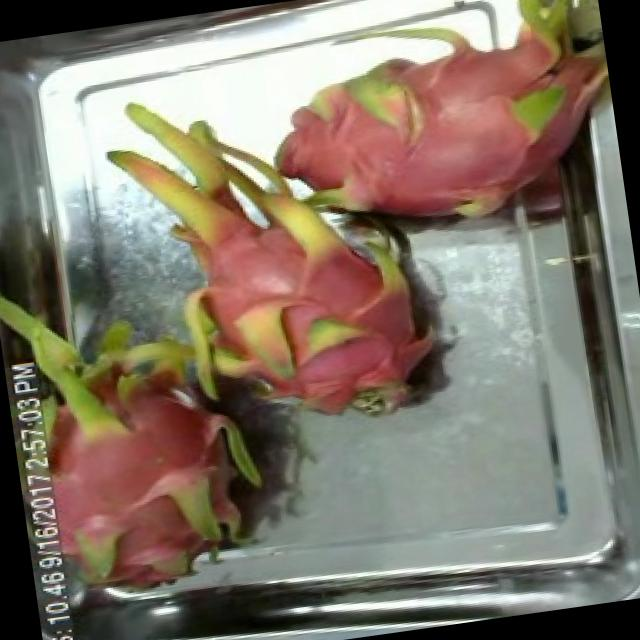Fruit: (212, 391, 316, 503)
